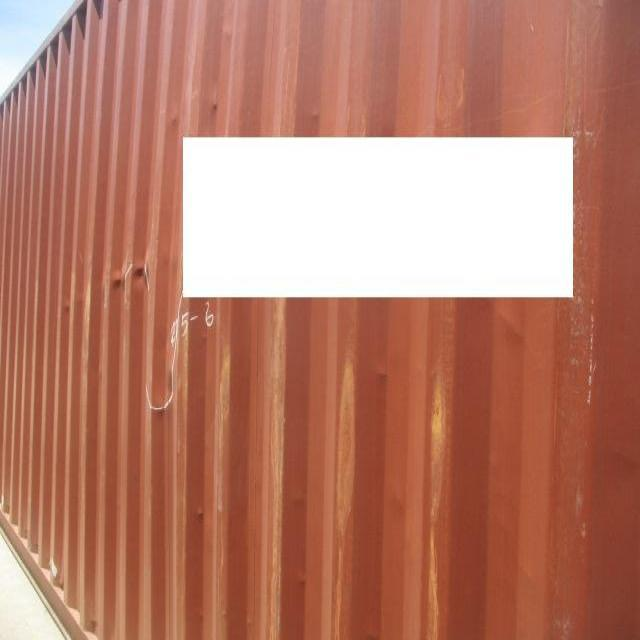Minor-Dent: (106, 255, 158, 296)
